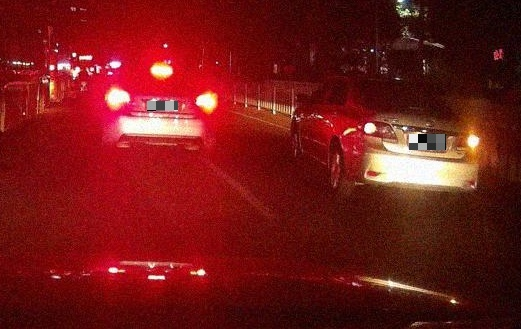L_light: (358, 120, 399, 144), (105, 91, 132, 105)
R_light: (453, 132, 479, 150), (194, 94, 216, 108)
T_light: (150, 65, 173, 77), (389, 82, 404, 88)
night-brake: (104, 61, 218, 153)
night-right: (349, 79, 480, 200)
plate_1: (147, 101, 178, 111)
plate_2: (409, 134, 446, 150)
